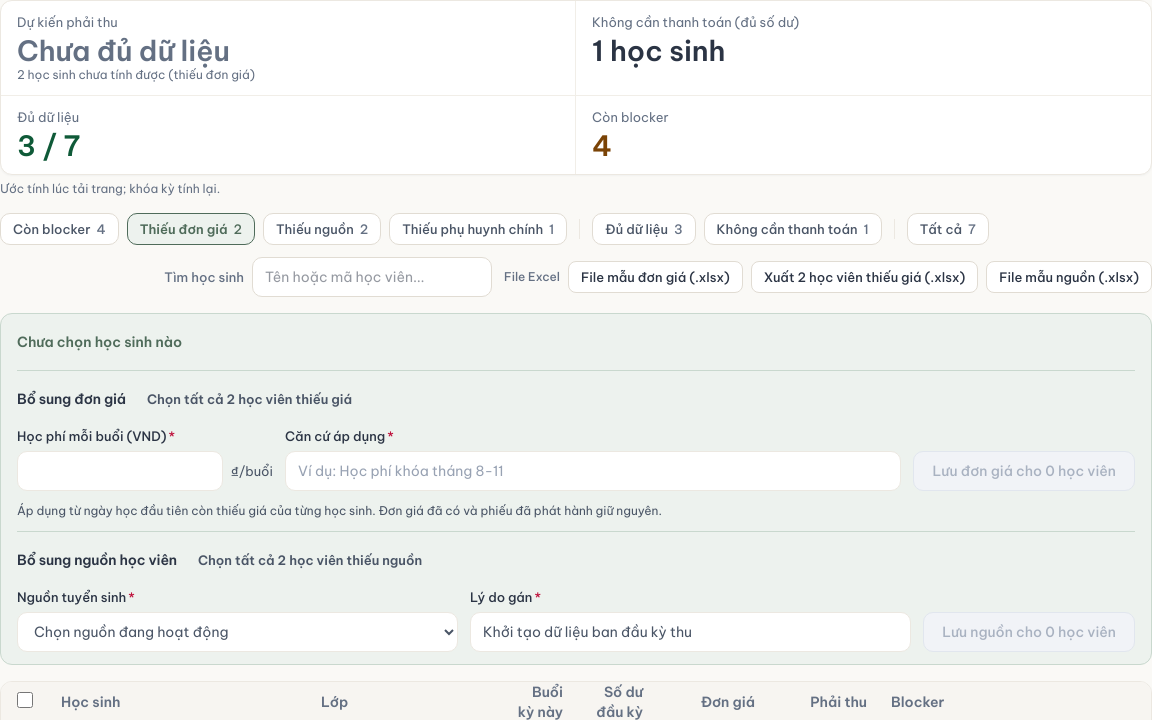
TuitionReadinessTable · design 15a › moves focus to the search after 'Xóa lọc' and to the result after a save
Type "ttv-5" into the search field labelled "Tìm học sinh". click: (372, 277)
box: [252,257,492,297]
(page scrolled)
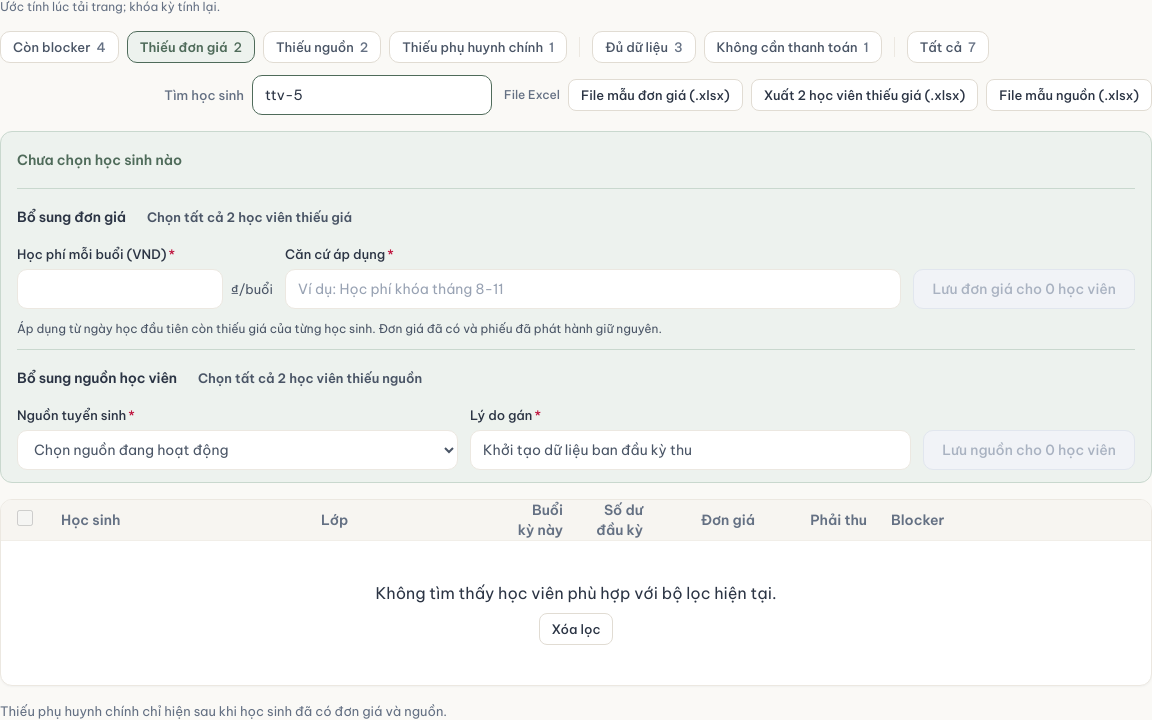
Click the button "Xóa lọc". click: (576, 629)
box: [538,613,613,645]
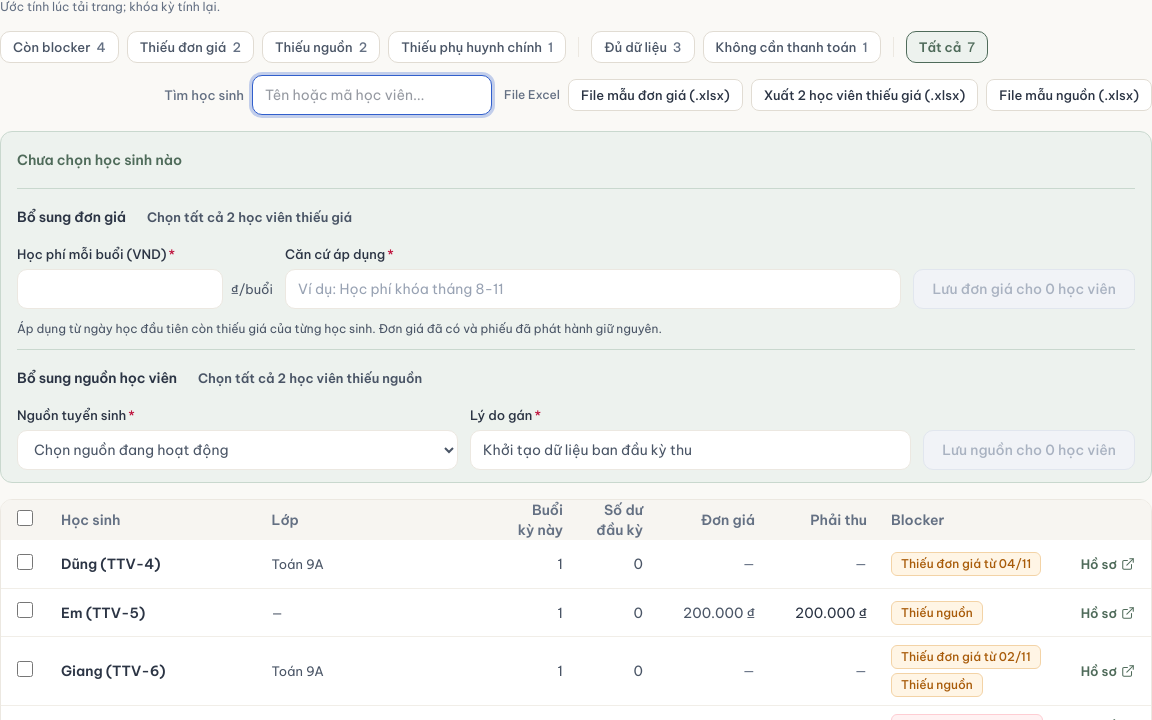
Click the button "Chọn tất cả 2 học viên thiếu giá". click: (249, 217)
box: [134,201,365,233]
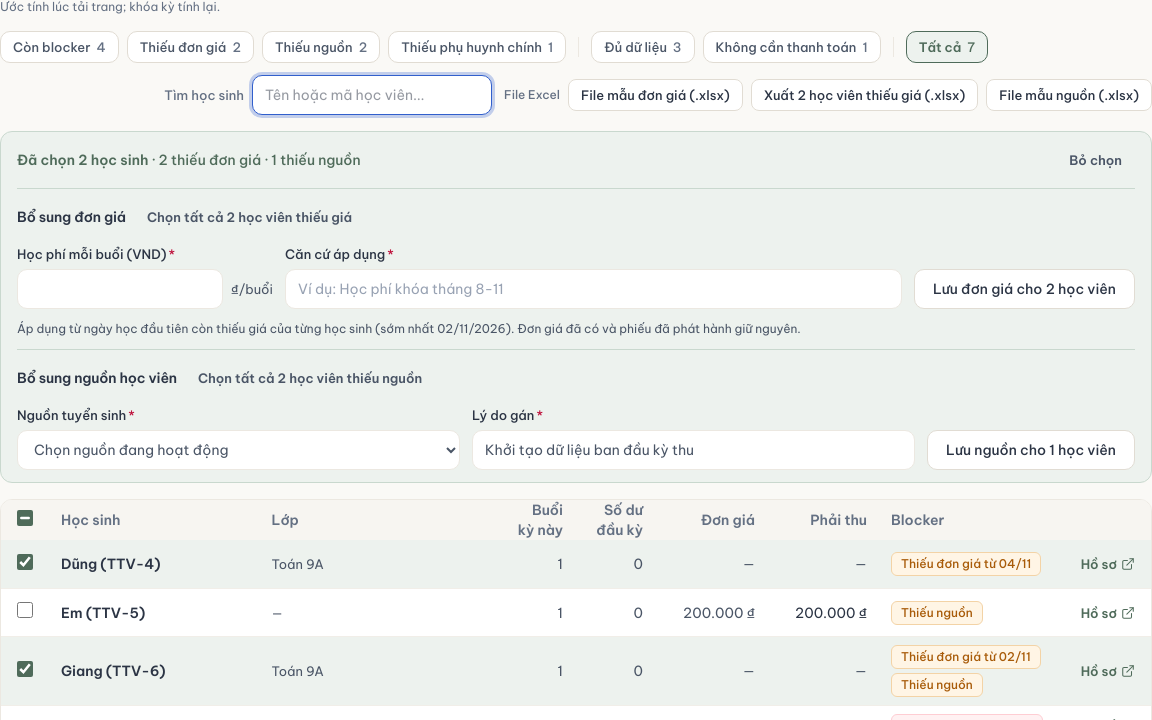
Type "220000" into the number field labelled "Học phí mỗi buổi (VND)". click: (120, 289)
box: [17,269,223,309]
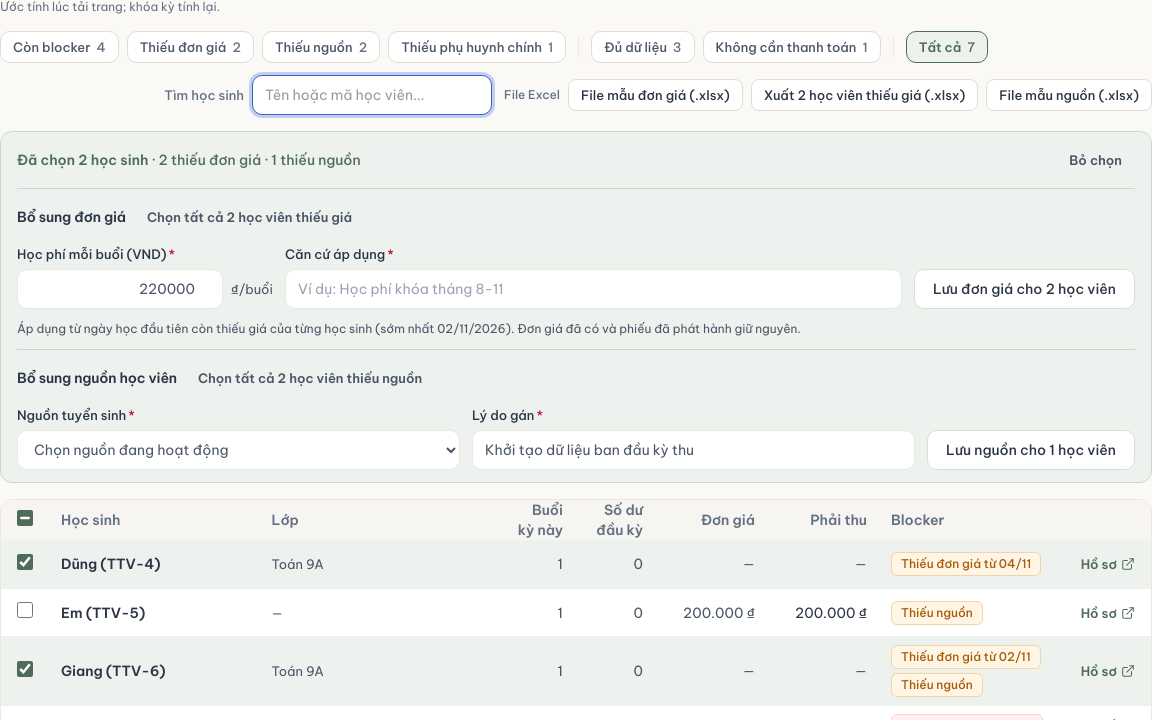
Type "Bổ sung giá" into the field labelled "Căn cứ áp dụng". click: (593, 289)
box: [285,269,902,309]
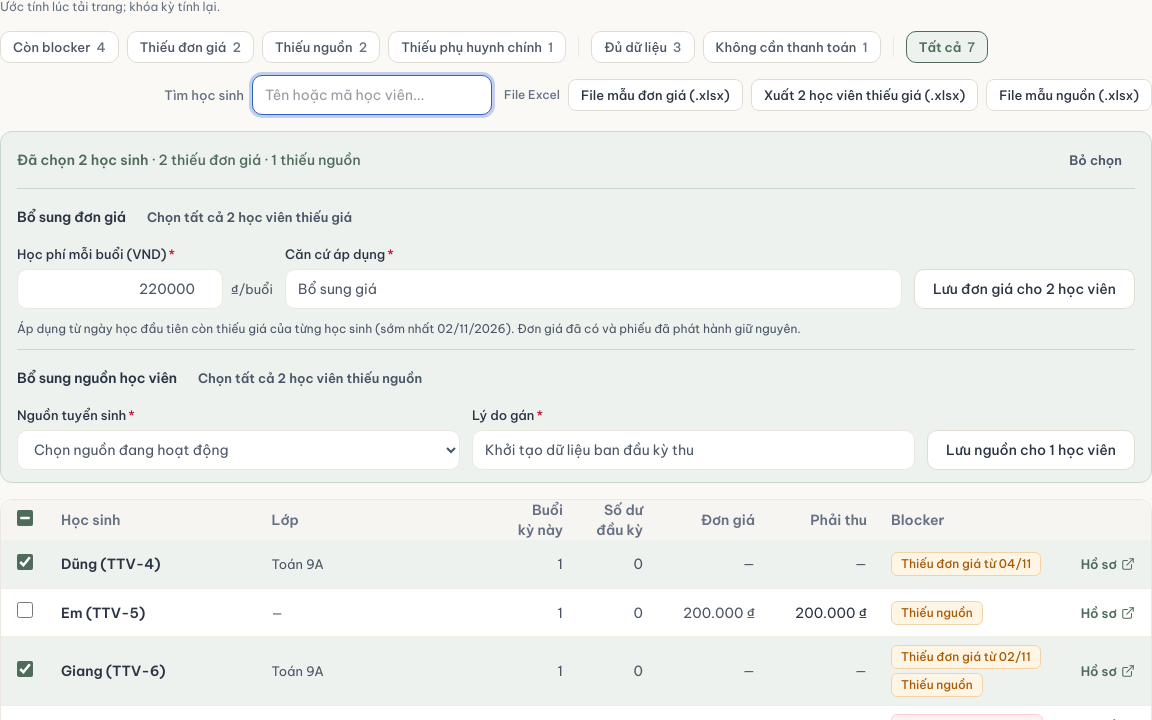
Click the button "Lưu đơn giá cho 2 học viên". click: (1024, 289)
box: [914,269,1135,309]
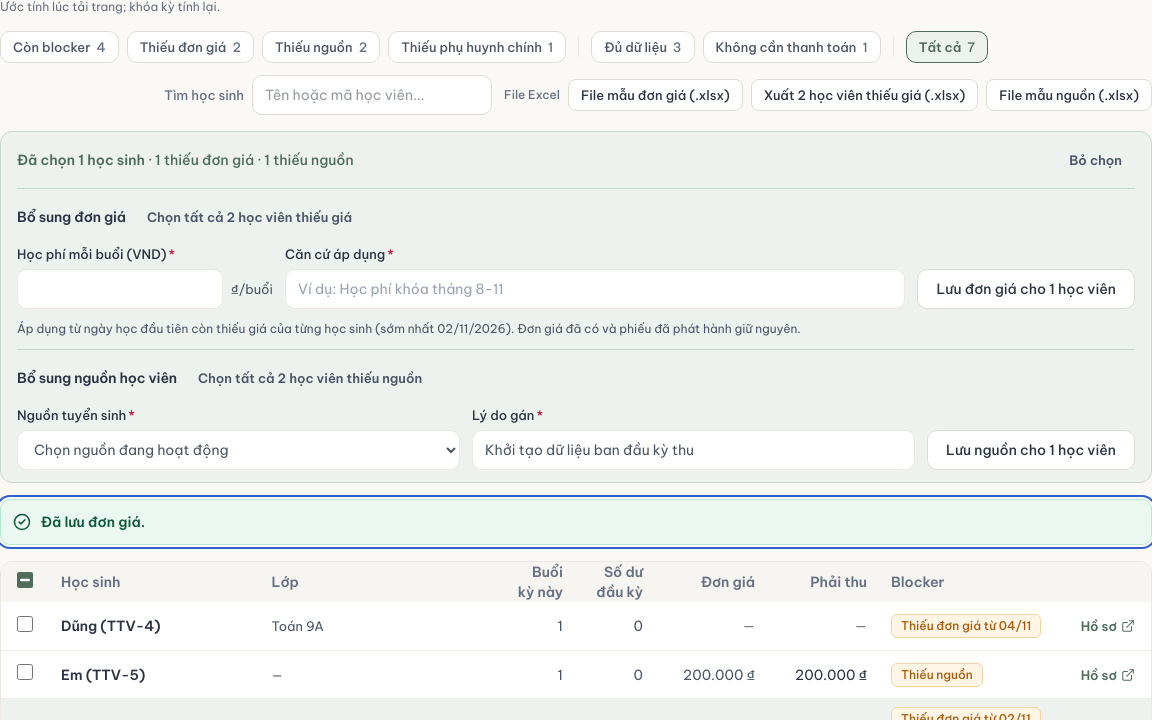
Expected: the message reads "Đã lưu đơn giá.", [41,513,145,531]
